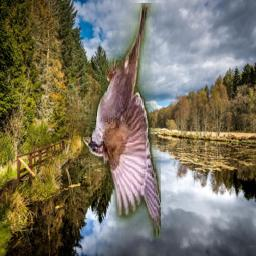Sparrow: (81, 4, 161, 239)
